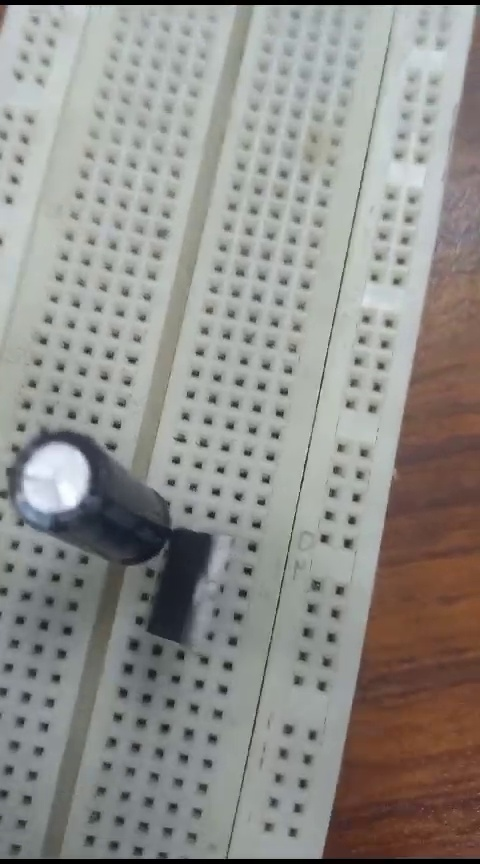capacitor: (11, 420, 170, 575)
voltage regulator: (152, 535, 235, 652)
